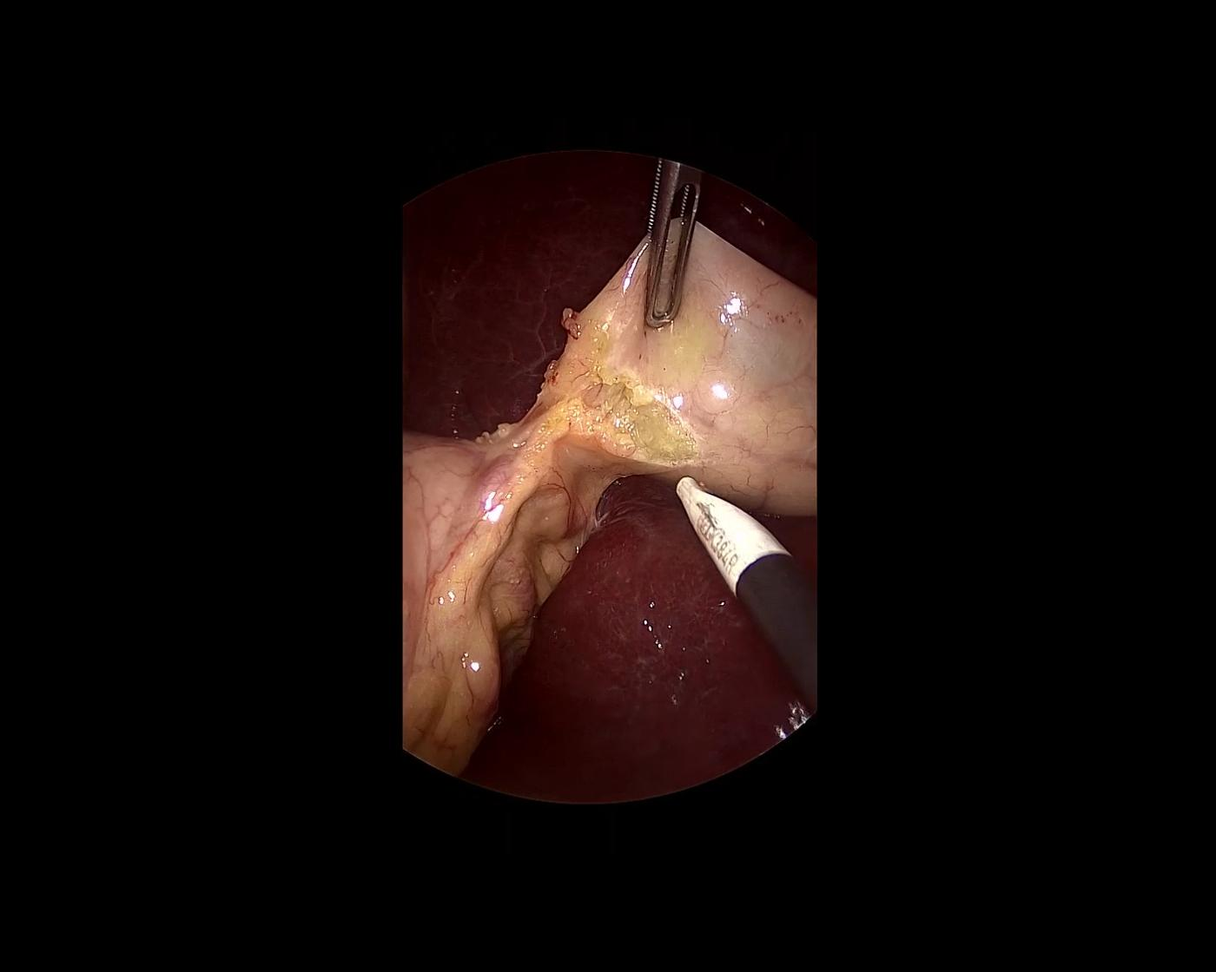Cautery: (667, 457, 865, 709)
Forceps: (628, 160, 704, 332)
Gallbladder: (525, 195, 913, 565)
Liver: (373, 462, 811, 890), (400, 153, 653, 441)
